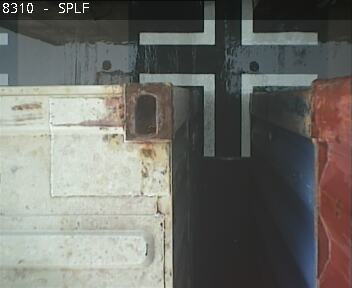groundmarker_1: (139, 72, 318, 156), (138, 1, 316, 45)
